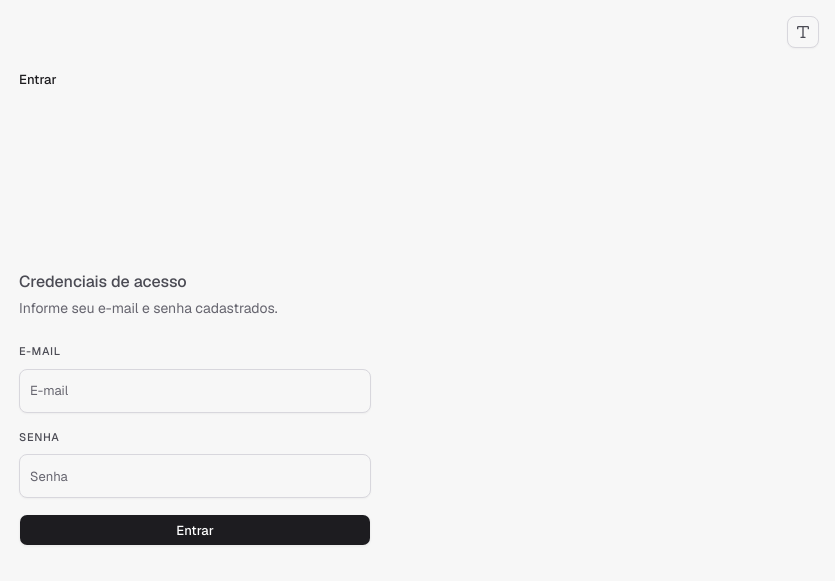
Scenario: AuthPage › renders the backend's ApiResponse message on login failure, never a raw error (FND-10/AC4)
The image size is (835, 581).
Type "admin@empresa.com" into the field labelled "E-mail".
click(195, 390); type("admin@empresa.com")  # box [19,368,371,412]
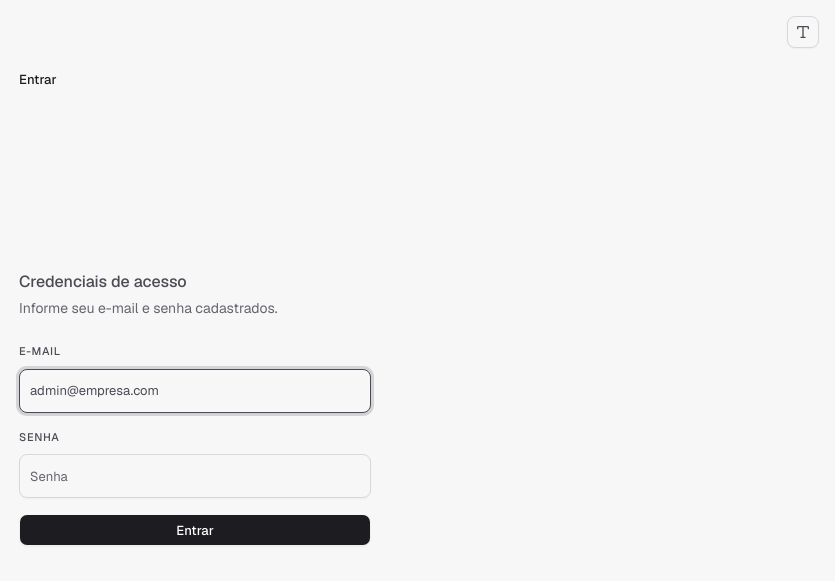
Type "senhaErrada" into the password field labelled "Senha".
click(195, 476); type("senhaErrada")  # box [19,454,371,498]
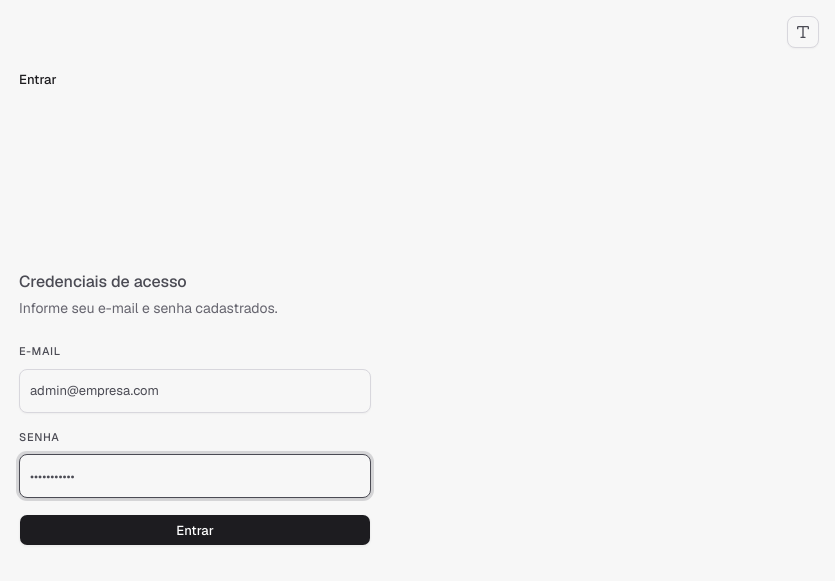
Click the button "Entrar".
click(195, 530)  # box [19,514,371,546]
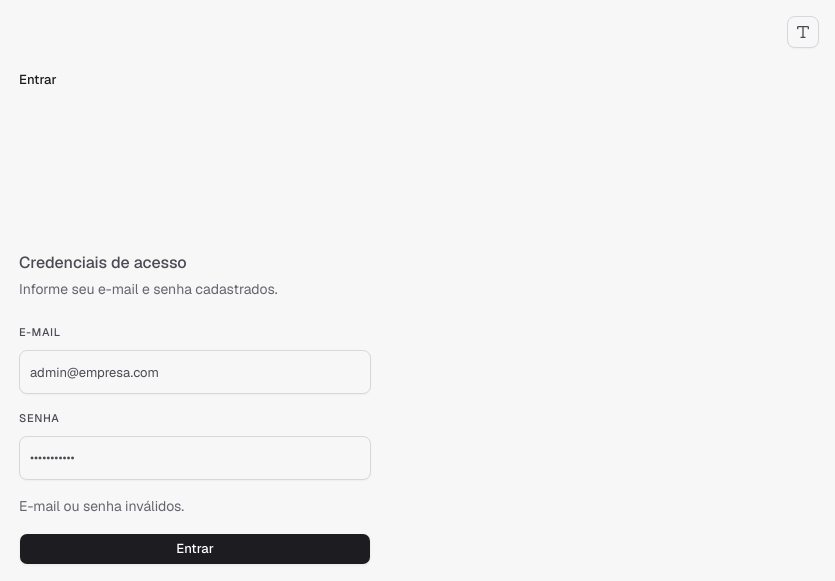
Expected: the text "E-mail ou senha inválidos." is shown, [19,497,184,515]
